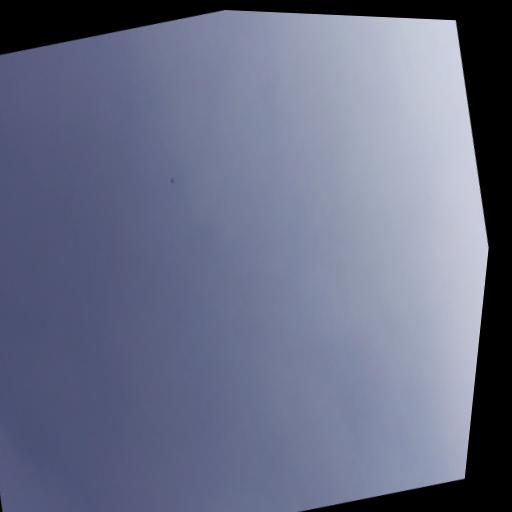drones: (169, 176, 177, 185)
